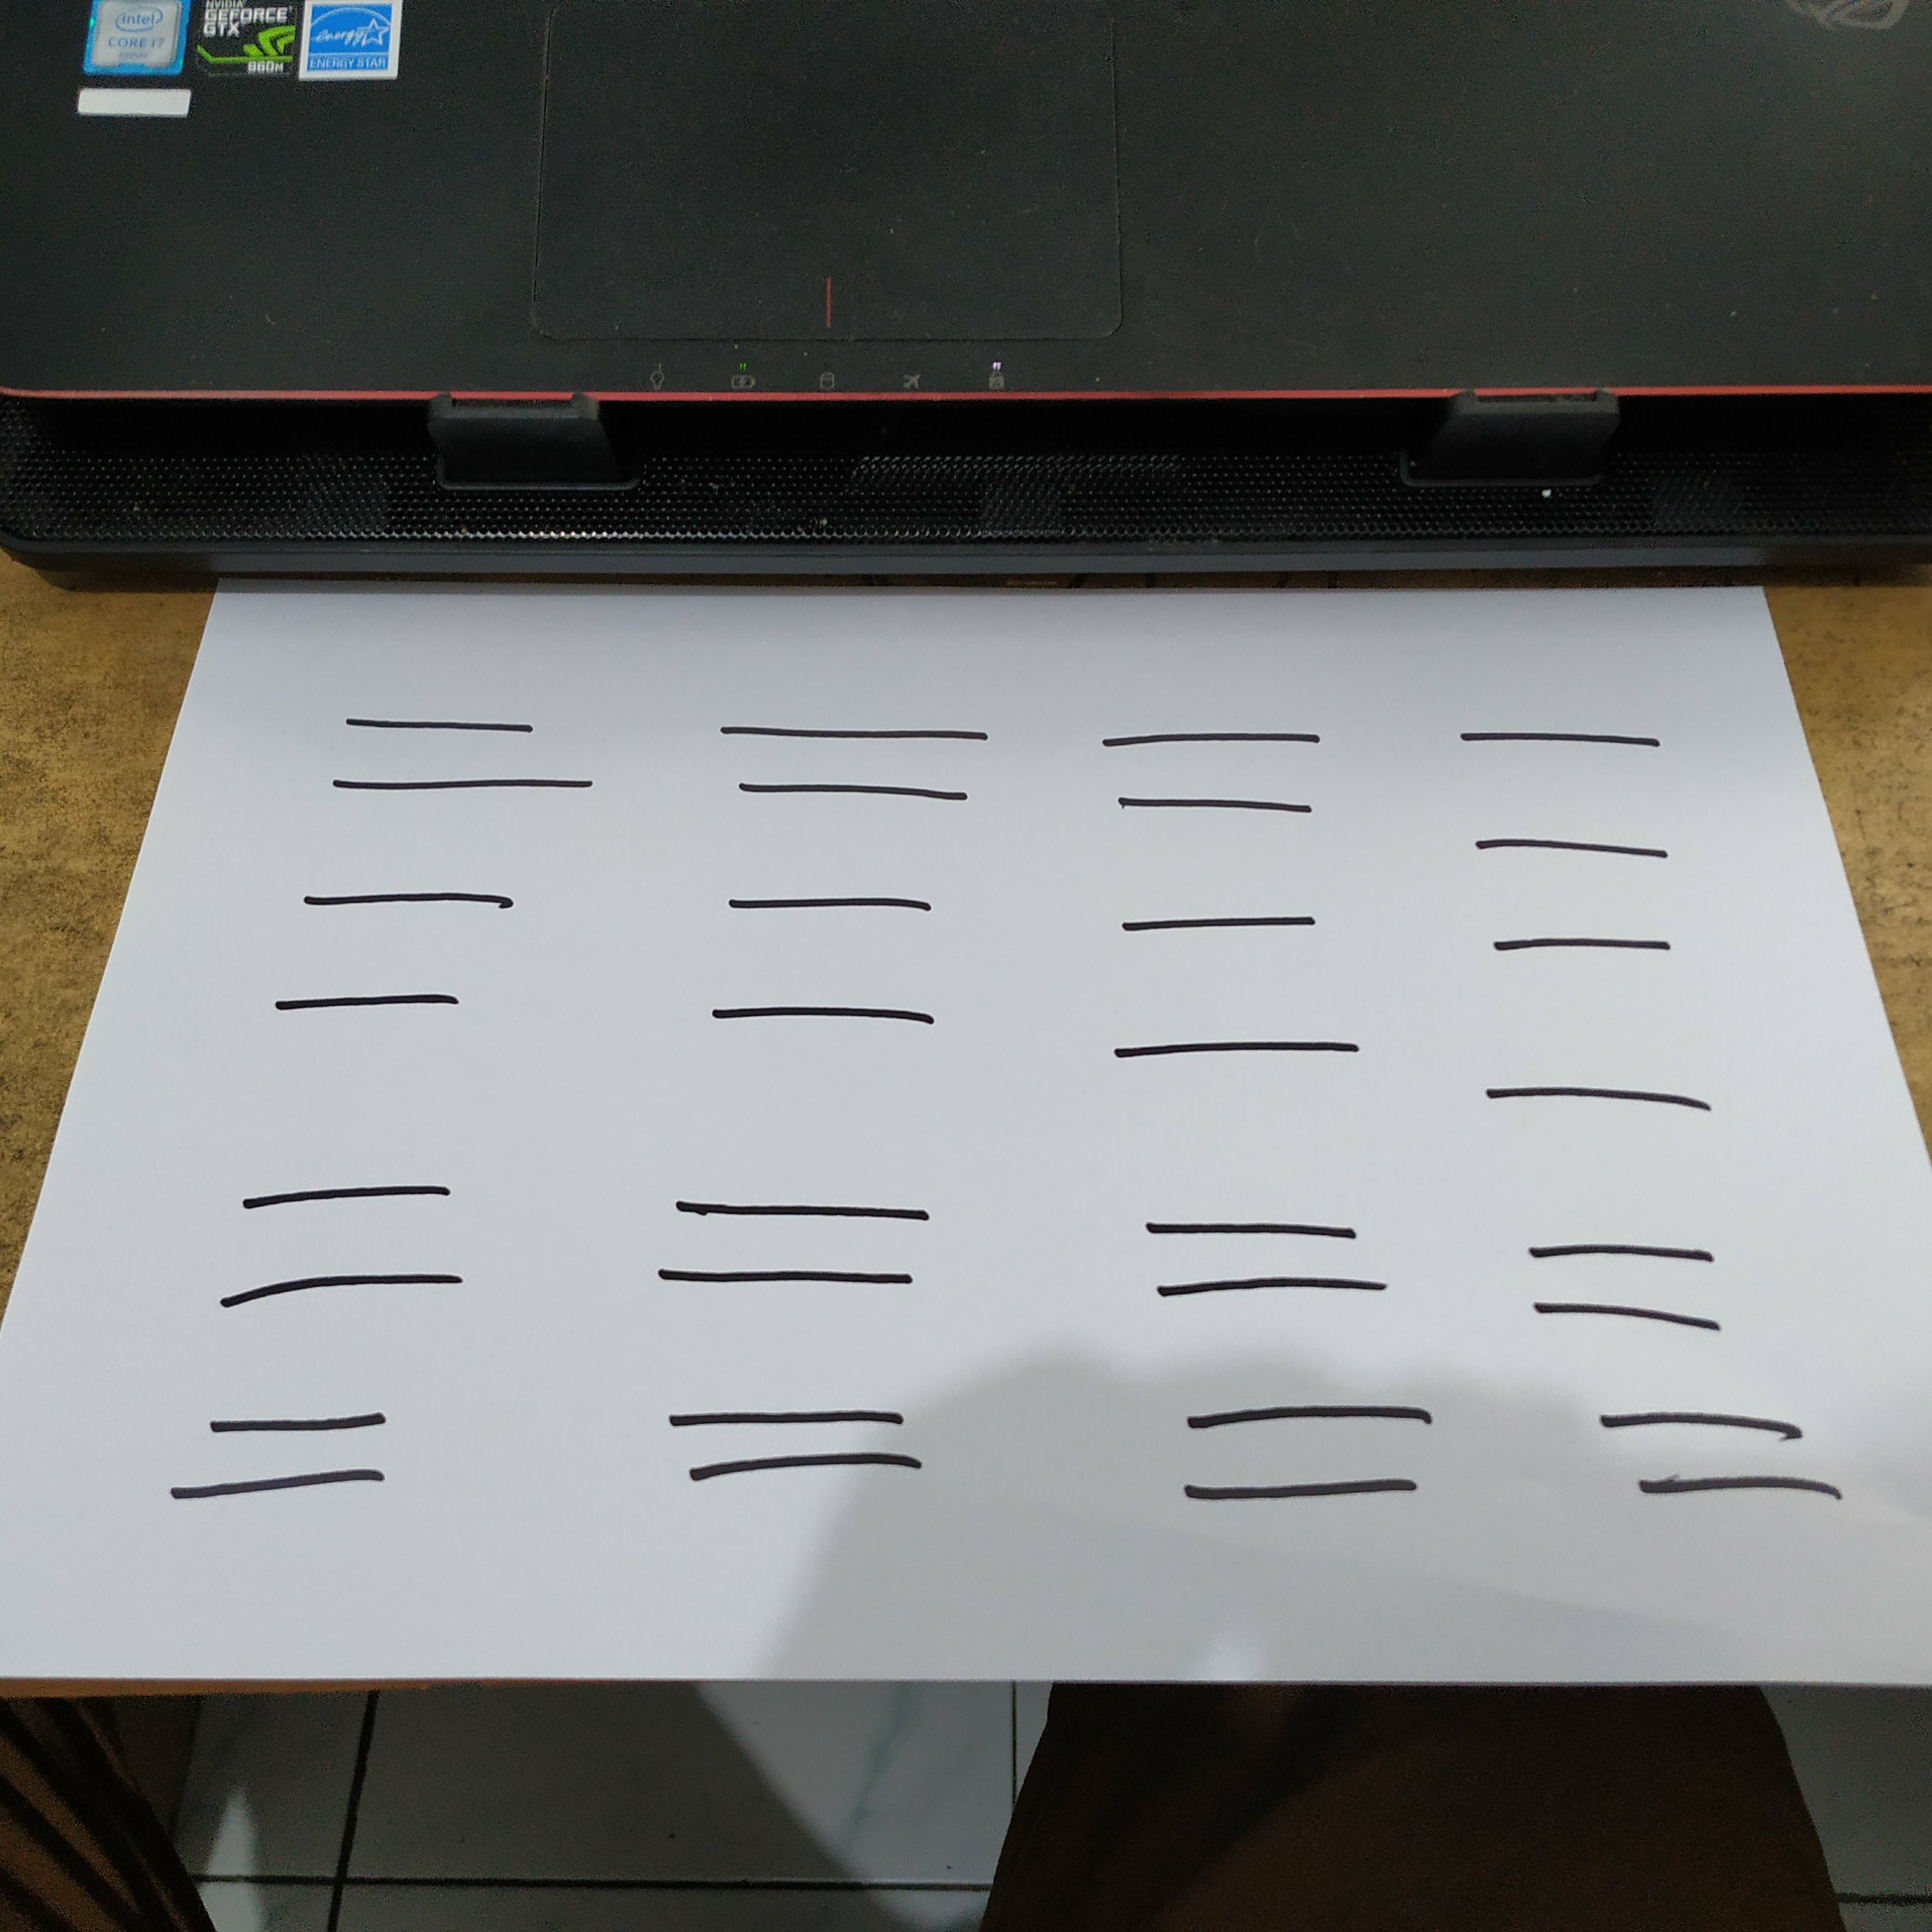equal: (1448, 914, 1740, 1141), (1084, 897, 1387, 1083), (1422, 694, 1701, 882), (688, 868, 952, 1056), (200, 1164, 499, 1321), (259, 872, 536, 1039), (641, 1178, 969, 1309), (316, 685, 622, 819), (702, 694, 1014, 823), (1157, 1387, 1457, 1520), (1112, 1196, 1426, 1323), (1081, 704, 1352, 840), (647, 1389, 983, 1498), (1573, 1399, 1867, 1518), (154, 1391, 433, 1512), (1506, 1221, 1768, 1350)
